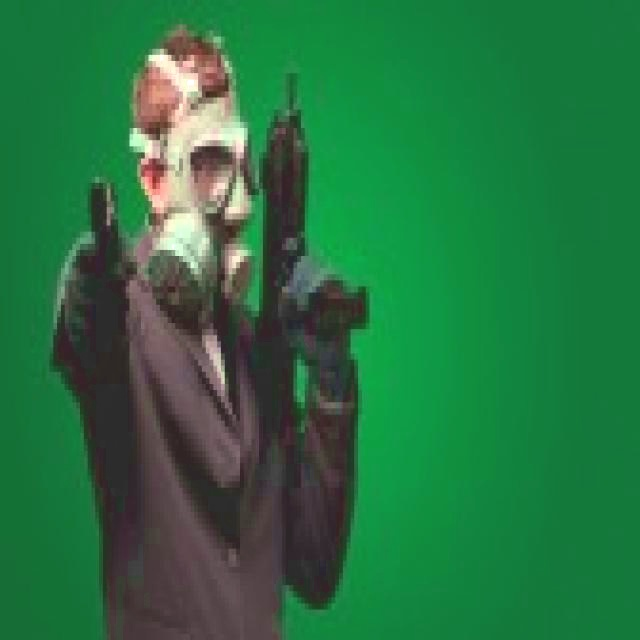gun: (252, 36, 388, 421), (61, 152, 141, 390)
